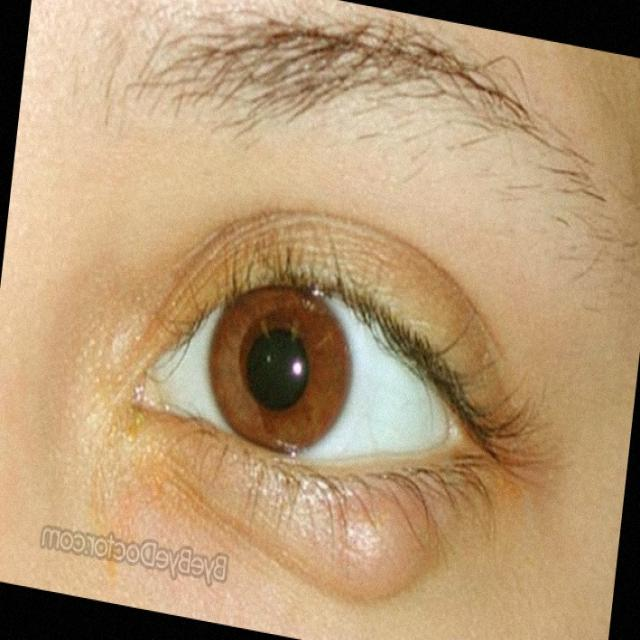Chalazion: (103, 176, 479, 613)
